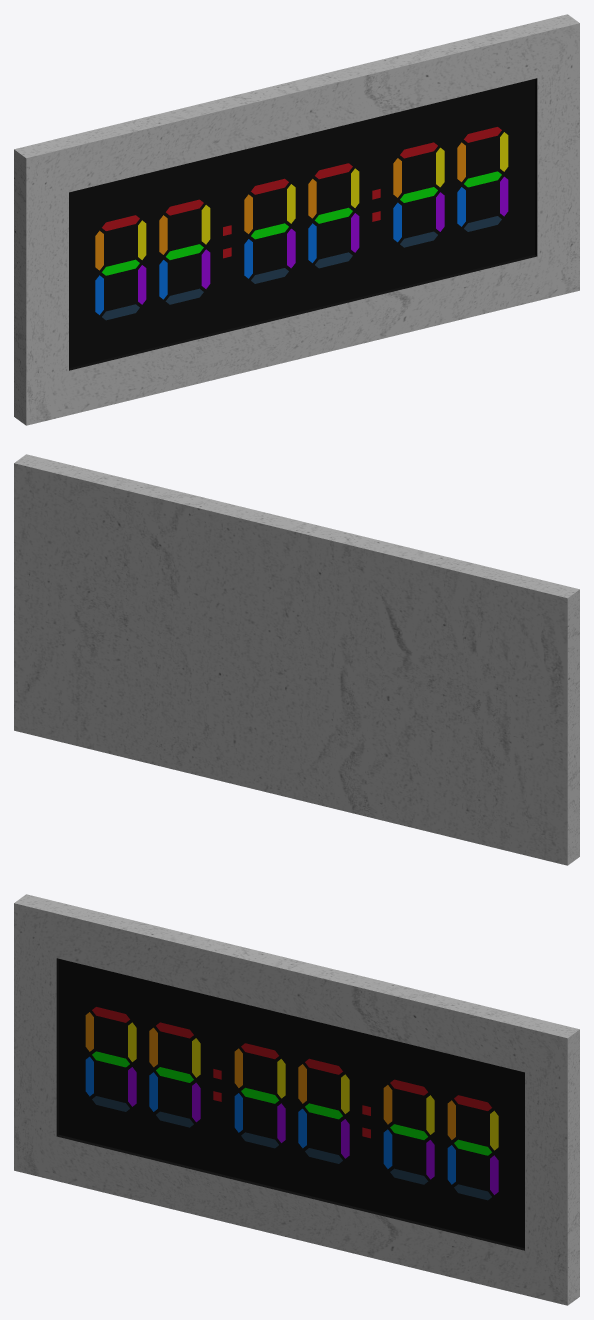
Rendered from Clock.fbx.
The picture shows the model from 3 angles, top to bottom: view 1: azimuth 30°, elevation 25°; view 2: azimuth 150°, elevation 25°; view 3: azimuth 330°, elevation 25°; orthographic projection.
Parts seen in each view (by area): view 1: Panel, D.001, D.002, D.005, D.000, D.004, D.003; view 2: Panel; view 3: Panel, D.004, D.000, D.003, D.001, D.005, D.002.
Part boxes in pixels (x1,y1,x2,y2): Panel: [14, 14, 579, 425]; D.001: [159, 199, 210, 304]; D.002: [244, 178, 295, 283]; D.005: [457, 127, 508, 231]; D.000: [95, 215, 146, 320]; D.004: [393, 142, 444, 247]; D.003: [308, 163, 359, 268]; Panel: [14, 454, 579, 865]; Panel: [14, 894, 579, 1305]; D.004: [383, 1079, 434, 1184]; D.000: [85, 1007, 136, 1111]; D.003: [298, 1058, 349, 1163]; D.001: [149, 1022, 200, 1127]; D.005: [447, 1095, 498, 1200]; D.002: [234, 1043, 285, 1148].
Size of the model in its own units: 2.6 by 1.2 by 0.1.
